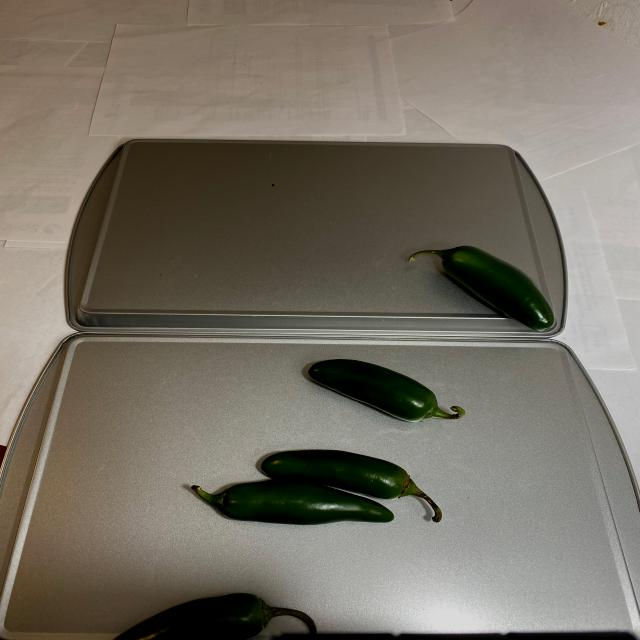chilli: (111, 356, 463, 640), (400, 241, 560, 337)
